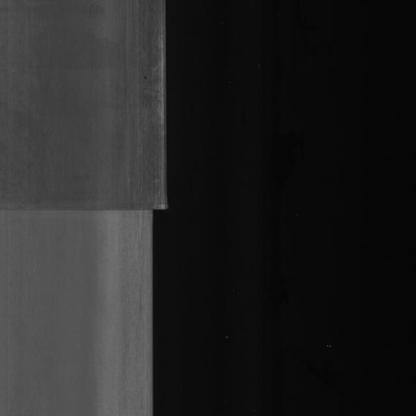welding_line: (0, 194, 174, 228)
